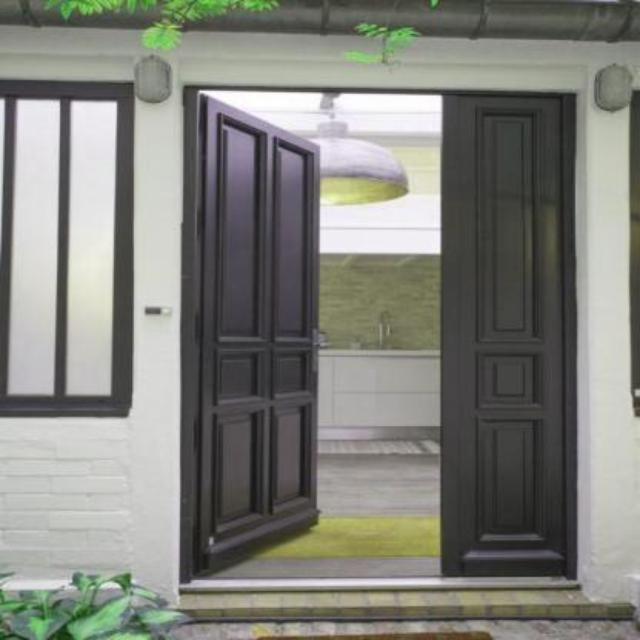door: (192, 92, 320, 575)
